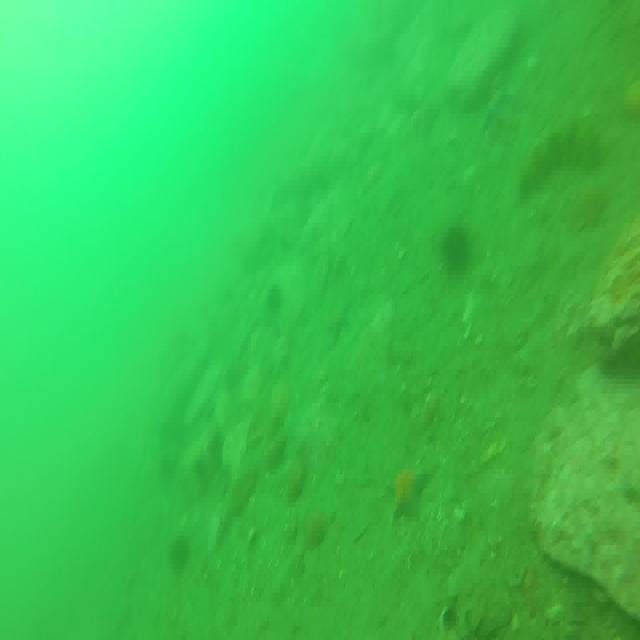echinus: (441, 230, 467, 275), (169, 536, 189, 574)
holothurian: (521, 121, 601, 200)
starfish: (393, 460, 426, 526)
